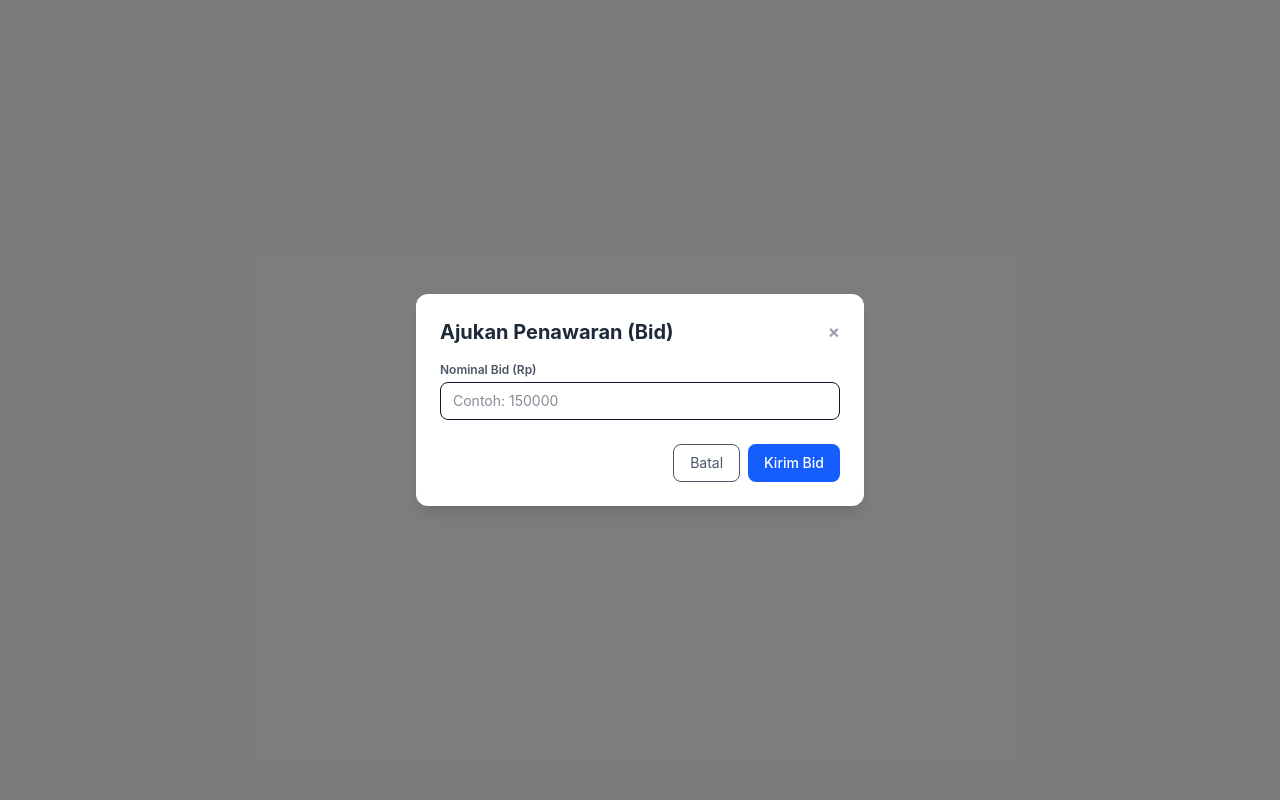
Test: BidModal.vue › handles successful bid submission
The width and height of the screenshot is (1280, 800).
Type "150000" into the number field labelled "Nominal Bid (Rp)" at (640, 401), box [440, 382, 840, 420]
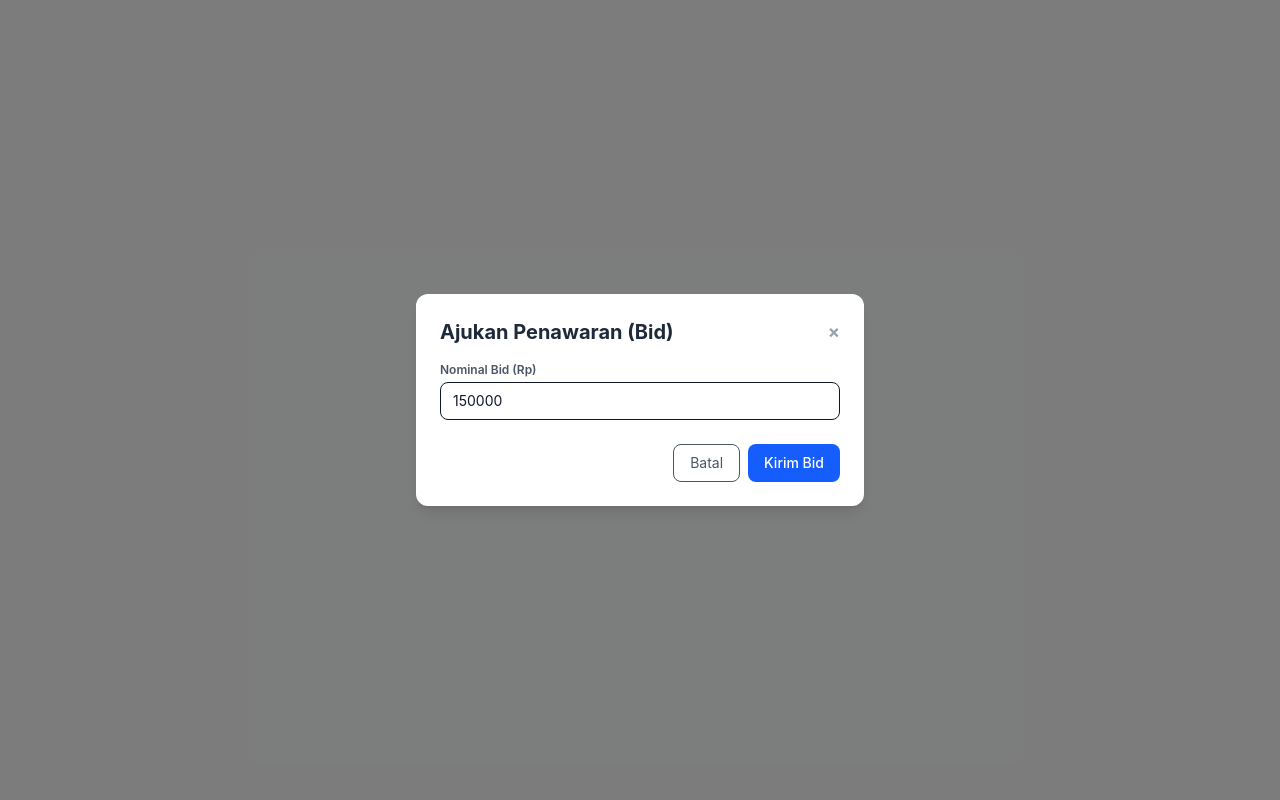
Submit the form, box [440, 362, 840, 482]
Wait 1000 ms
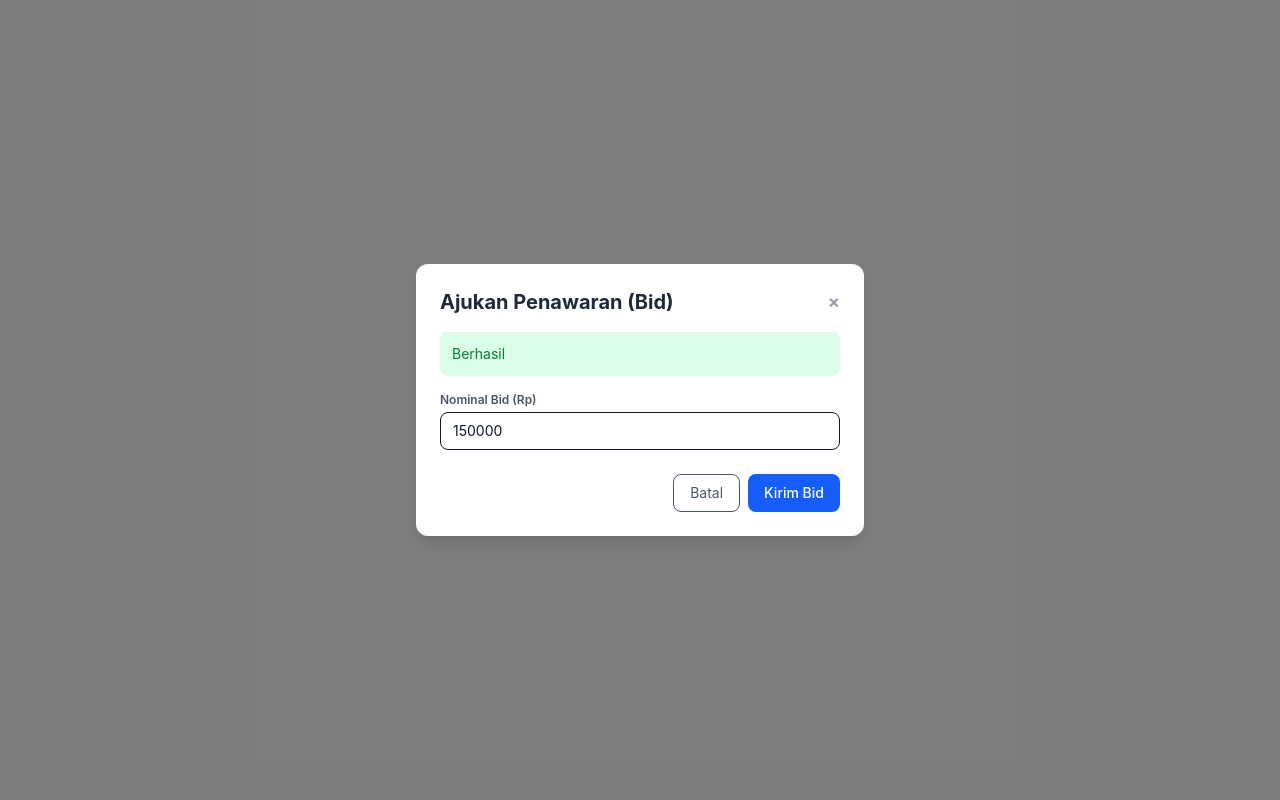
Expected: the text "Berhasil" is shown, [440, 332, 840, 376]
